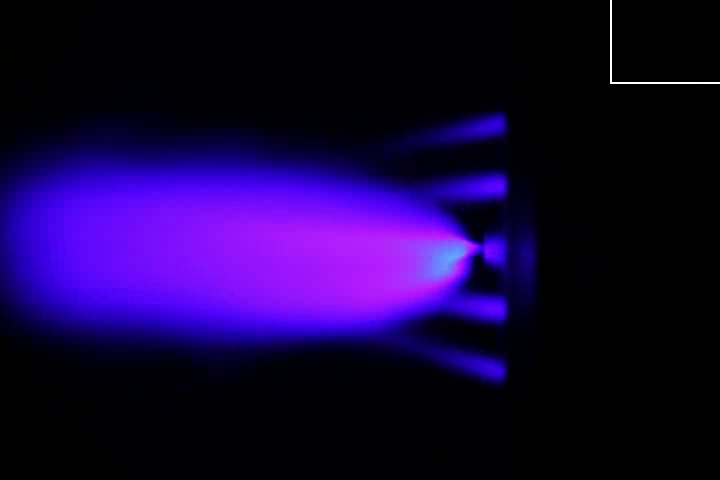burner cap: (480, 233, 512, 274)
pilot flame: (380, 329, 507, 385), (396, 114, 506, 149), (414, 173, 508, 205), (439, 294, 512, 324)
stable: (62, 190, 483, 317)
